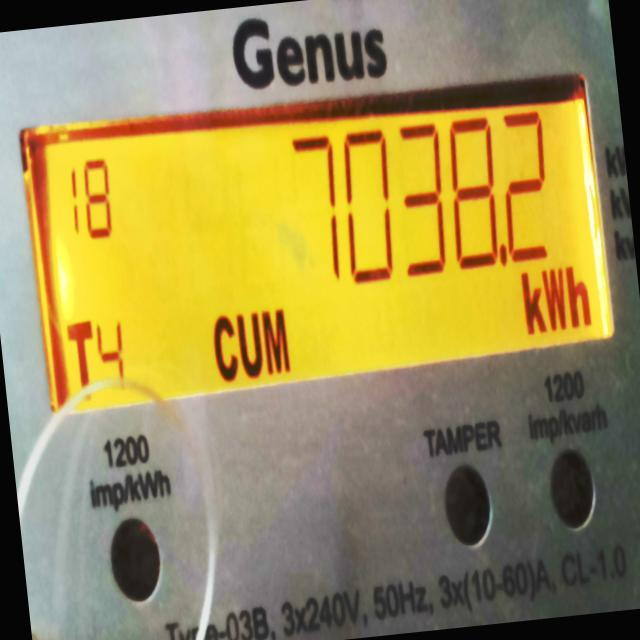LCD: (15, 95, 620, 388)
